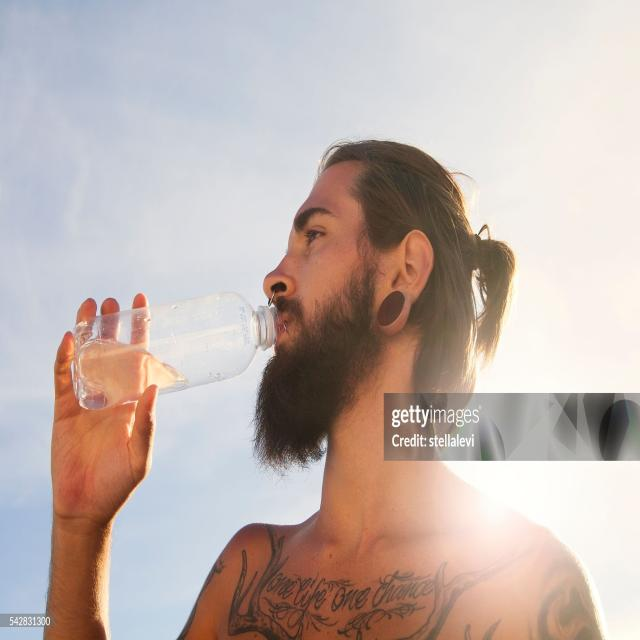bottle: (69, 291, 281, 413)
